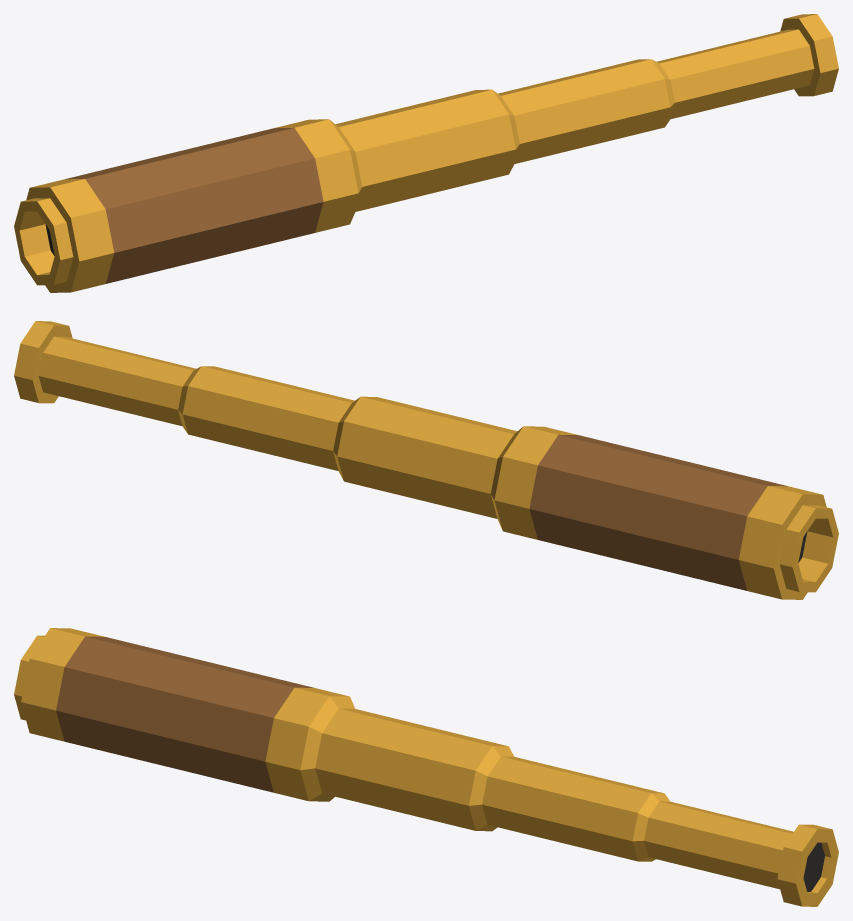
Rendered from Spygalss_1.fbx.
3 renders of one model, top to bottom at view 1: azimuth 30°, elevation 25°; view 2: azimuth 150°, elevation 25°; view 3: azimuth 330°, elevation 25°, orthographic.
Visible parts, largest first — view 1: Spygalss_1; view 2: Spygalss_1; view 3: Spygalss_1.
Part boxes in pixels (left/top/right/bottom): Spygalss_1: left=14, top=14, right=838, bottom=292; Spygalss_1: left=14, top=321, right=838, bottom=599; Spygalss_1: left=14, top=628, right=838, bottom=906.
Bounding box in the file's own units: 46.47 × 6.01 × 6.01.
